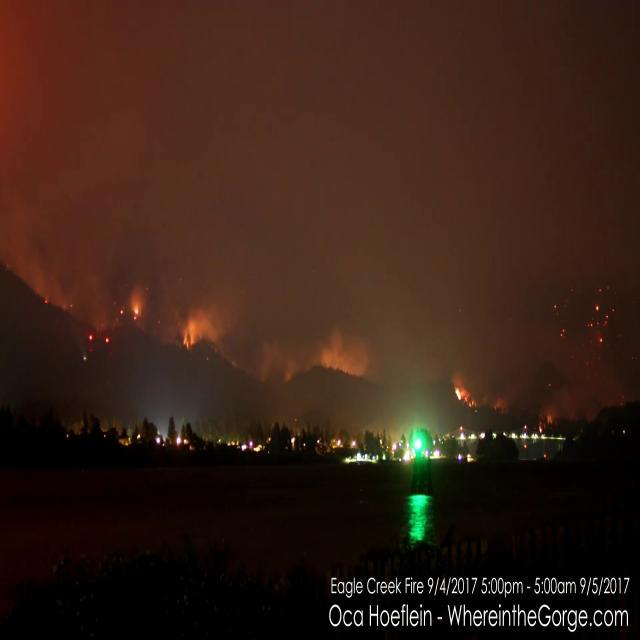Fire: (456, 384, 478, 413), (182, 332, 195, 349), (134, 306, 140, 314)
Smoke: (8, 198, 116, 332), (254, 328, 374, 390), (178, 282, 242, 347)
